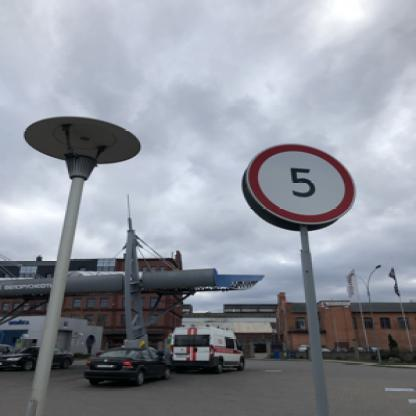speedlimit: (244, 142, 356, 224)
